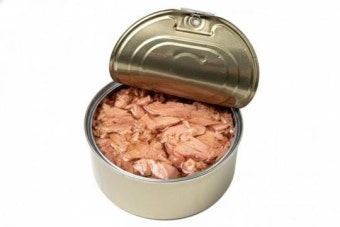paper: (77, 34, 263, 219)
